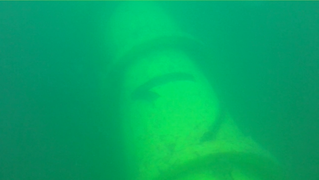1: (130, 72, 196, 102)
pipe: (101, 1, 287, 179)
